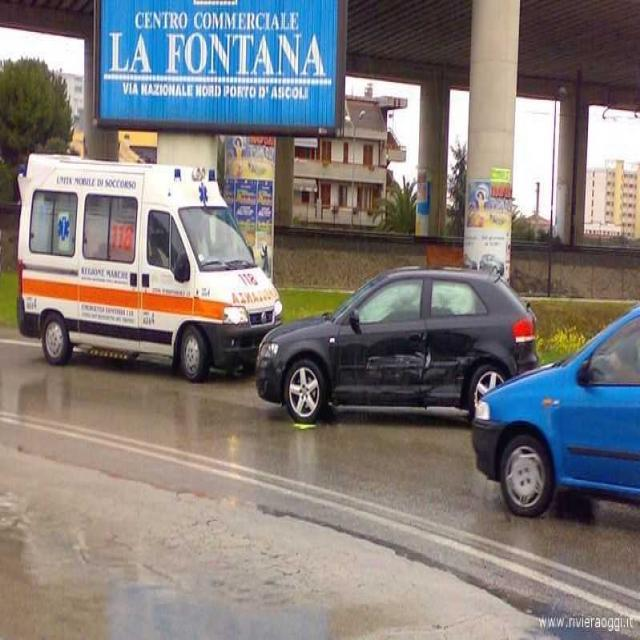emergency-vehicle: (19, 152, 288, 376)
